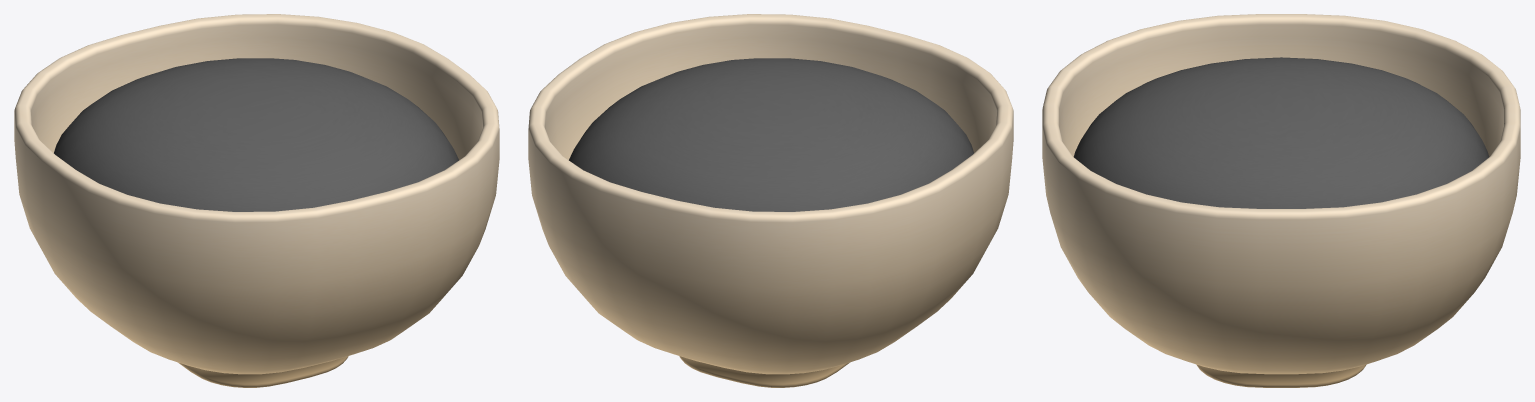
Rendered from Bad_Dough_Bowl.fbx.
3 views of the same model, side by side, from view 1: azimuth 30°, elevation 25°; view 2: azimuth 150°, elevation 25°; view 3: azimuth 270°, elevation 25° (orthographic).
Parts seen in each view (by area): view 1: Bad_Dough_Bowl; view 2: Bad_Dough_Bowl; view 3: Bad_Dough_Bowl.
Boxes of the visible parts, x1=… form: Bad_Dough_Bowl: x1=14, y1=14, x2=499, y2=387; Bad_Dough_Bowl: x1=528, y1=14, x2=1013, y2=387; Bad_Dough_Bowl: x1=1042, y1=14, x2=1520, y2=387.
Bounding box in the file's own units: 32.71 × 18.93 × 32.71.
